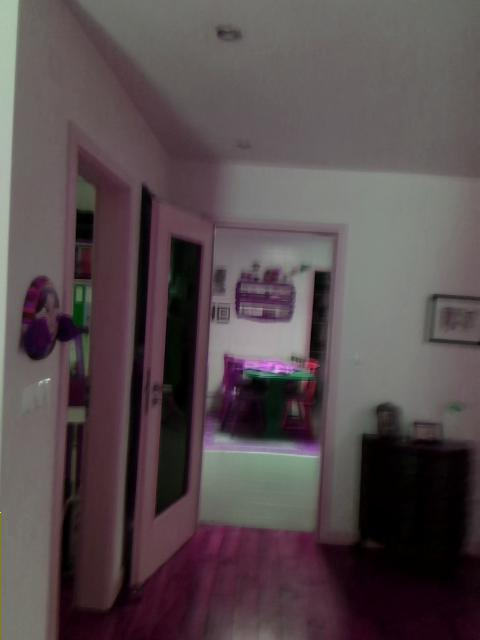open_door: (172, 215, 347, 540)
